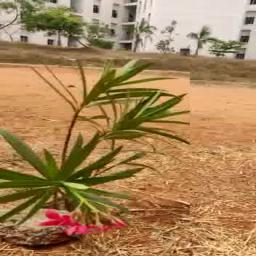OLEANDER: (0, 60, 191, 226)
